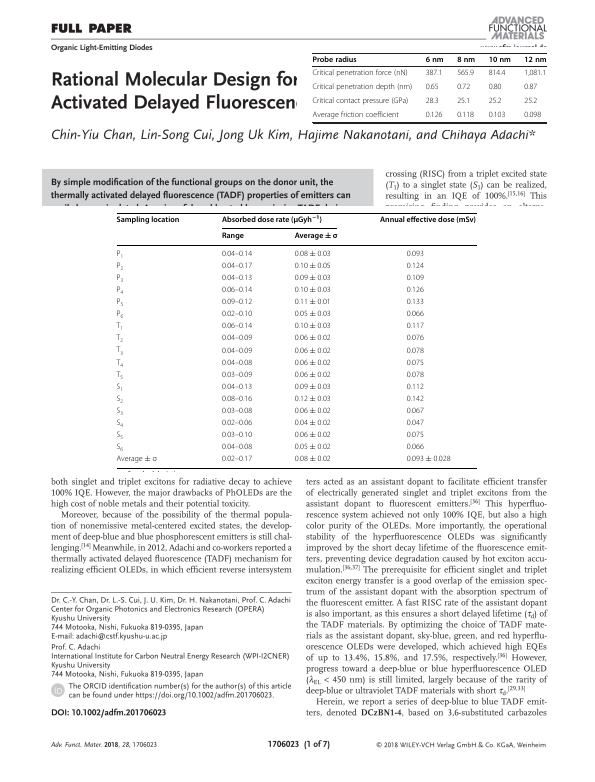borderless: (115, 211, 477, 468), (311, 52, 546, 122)
cell: (221, 214, 323, 225), (379, 215, 477, 225), (312, 83, 413, 92), (312, 97, 409, 106), (312, 69, 408, 78), (312, 111, 400, 120), (116, 215, 180, 225), (294, 231, 338, 241), (406, 455, 452, 464), (115, 455, 158, 464), (294, 249, 332, 259), (294, 261, 332, 271), (294, 370, 332, 380), (294, 382, 332, 392), (312, 56, 358, 64), (294, 274, 332, 283), (294, 286, 332, 295), (294, 298, 332, 307), (294, 310, 332, 319), (294, 322, 332, 331), (294, 334, 332, 343), (294, 346, 332, 355), (294, 358, 332, 367), (294, 395, 332, 404), (294, 407, 332, 416), (294, 419, 332, 428), (294, 431, 332, 440), (294, 443, 332, 452), (294, 455, 332, 464), (221, 249, 253, 259), (221, 261, 253, 271), (221, 370, 253, 380), (221, 382, 253, 392), (221, 274, 253, 283), (221, 286, 253, 295), (221, 298, 253, 307), (221, 310, 253, 319), (221, 322, 253, 331), (221, 334, 253, 343), (221, 346, 253, 355), (221, 358, 253, 367), (221, 395, 253, 404), (221, 407, 253, 416), (221, 419, 253, 428), (221, 431, 253, 440), (221, 443, 253, 452), (221, 455, 253, 464), (221, 231, 245, 241), (523, 69, 547, 78), (488, 56, 512, 64), (523, 56, 547, 64), (406, 249, 425, 259), (406, 261, 425, 271), (406, 370, 425, 380), (406, 382, 425, 392), (406, 274, 425, 283), (406, 286, 425, 295), (406, 298, 425, 307), (406, 310, 425, 319), (406, 322, 425, 331), (406, 334, 425, 343), (406, 346, 425, 355), (406, 358, 425, 367), (406, 395, 425, 404), (406, 407, 425, 416), (406, 419, 425, 428), (406, 431, 425, 440), (406, 443, 425, 452), (456, 69, 475, 78), (456, 111, 475, 120), (523, 111, 542, 120), (425, 69, 443, 78), (488, 69, 506, 78), (425, 111, 443, 120), (488, 111, 506, 120), (456, 56, 476, 64), (425, 56, 444, 64), (456, 83, 471, 92), (523, 83, 538, 92), (456, 97, 471, 106), (523, 97, 538, 106), (425, 83, 439, 92), (488, 83, 502, 92), (425, 97, 439, 106), (488, 97, 502, 106), (115, 322, 124, 333), (115, 334, 124, 345), (115, 346, 124, 357), (115, 358, 124, 369), (115, 370, 124, 381), (115, 382, 124, 393), (115, 431, 124, 442), (115, 443, 124, 454), (115, 395, 124, 405), (115, 407, 124, 417), (115, 419, 124, 429), (116, 249, 124, 260), (116, 261, 124, 272), (116, 310, 124, 321), (116, 274, 124, 284), (116, 286, 124, 296), (116, 298, 124, 308)
